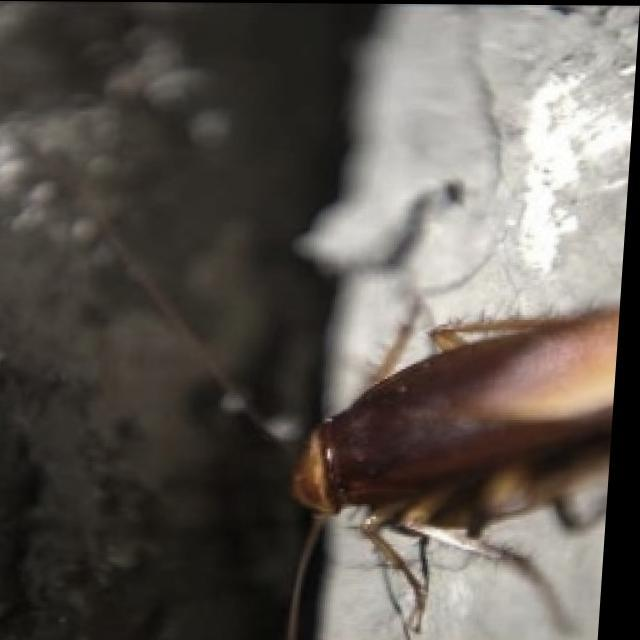cockroach: (310, 302, 619, 535)
